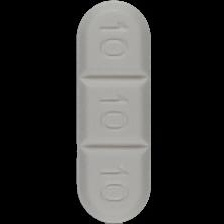0378-1175: (0, 0, 224, 224)
